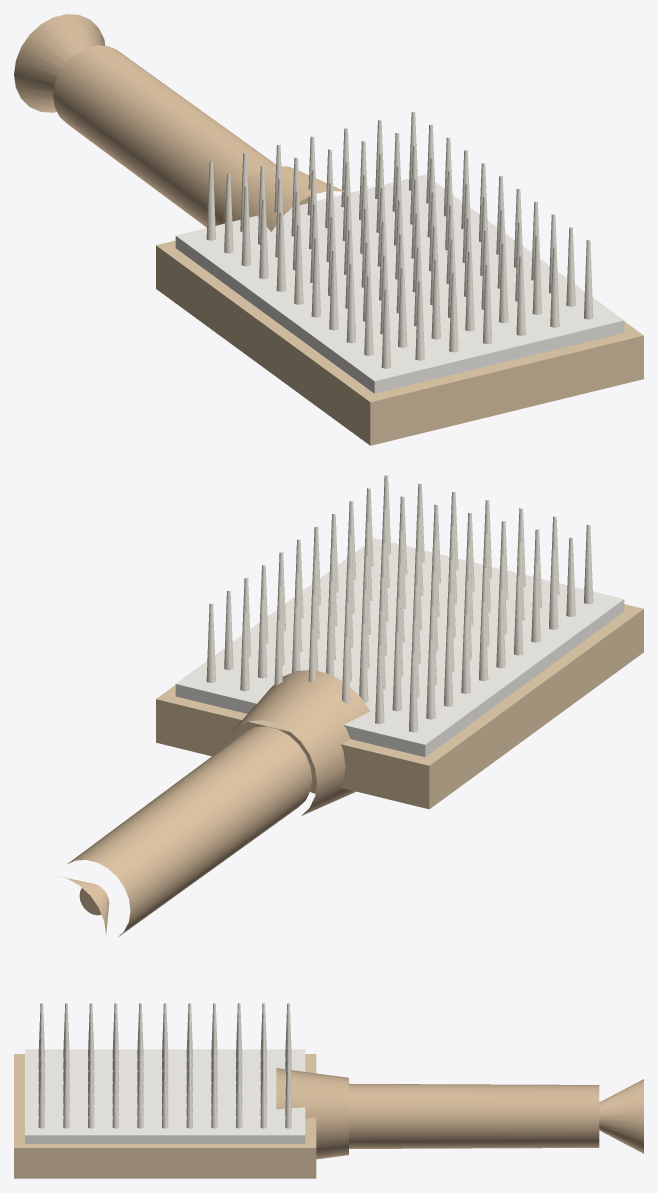
The model's file is brush-3d.glb.
The picture shows the model from 3 angles, top to bottom: view 1: azimuth 30°, elevation 25°; view 2: azimuth 150°, elevation 25°; view 3: azimuth 270°, elevation 25°; orthographic projection. The views are drawn at different scales.
Parts seen in each view (by area): view 1: Brush; view 2: Brush; view 3: Brush.
Boxes of the visible parts, x1=… form: Brush: x1=14, y1=14, x2=643, y2=445; Brush: x1=57, y1=475, x2=643, y2=936; Brush: x1=14, y1=1003, x2=643, y2=1178.
Bounding box in the file's own units: 0.92 × 0.558 × 2.6.
